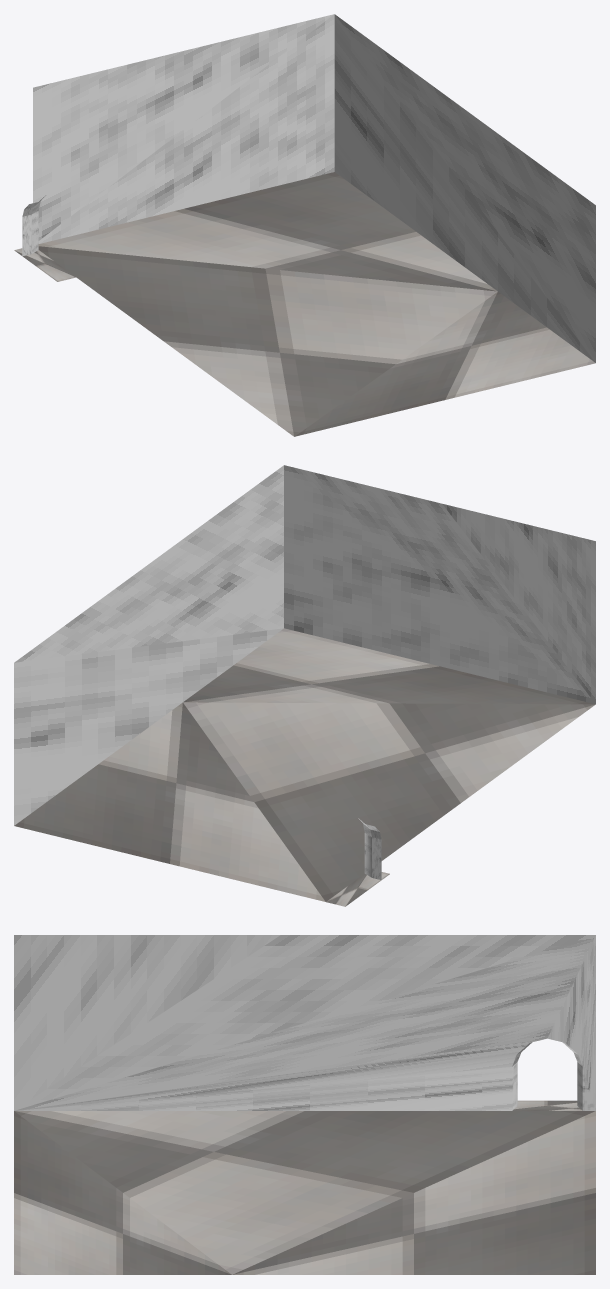
File: Room4.glb
The picture shows the model from 3 angles, top to bottom: view 1: azimuth 30°, elevation 25°; view 2: azimuth 150°, elevation 25°; view 3: azimuth 270°, elevation 25°; orthographic projection. The views are drawn at different scales.
Visible parts, largest first — view 1: Floor, Wall3, Wall1, Wall4; view 2: Floor, Wall2, Wall1, Wall4; view 3: Wall4, Floor.
Part boxes in pixels (x1=…): Floor: x1=14, y1=172, x2=595, y2=436; Wall3: x1=33, y1=14, x2=334, y2=243; Wall1: x1=334, y1=14, x2=595, y2=362; Wall4: x1=22, y1=195, x2=45, y2=256; Floor: x1=14, y1=628, x2=595, y2=906; Wall2: x1=284, y1=465, x2=595, y2=704; Wall1: x1=14, y1=465, x2=283, y2=825; Wall4: x1=358, y1=818, x2=381, y2=879; Wall4: x1=14, y1=935, x2=595, y2=1110; Floor: x1=14, y1=1100, x2=595, y2=1274.
Bounding box in the file's own units: 8.5 × 4 × 12.
Materials: 6 (6 with a texture image).
